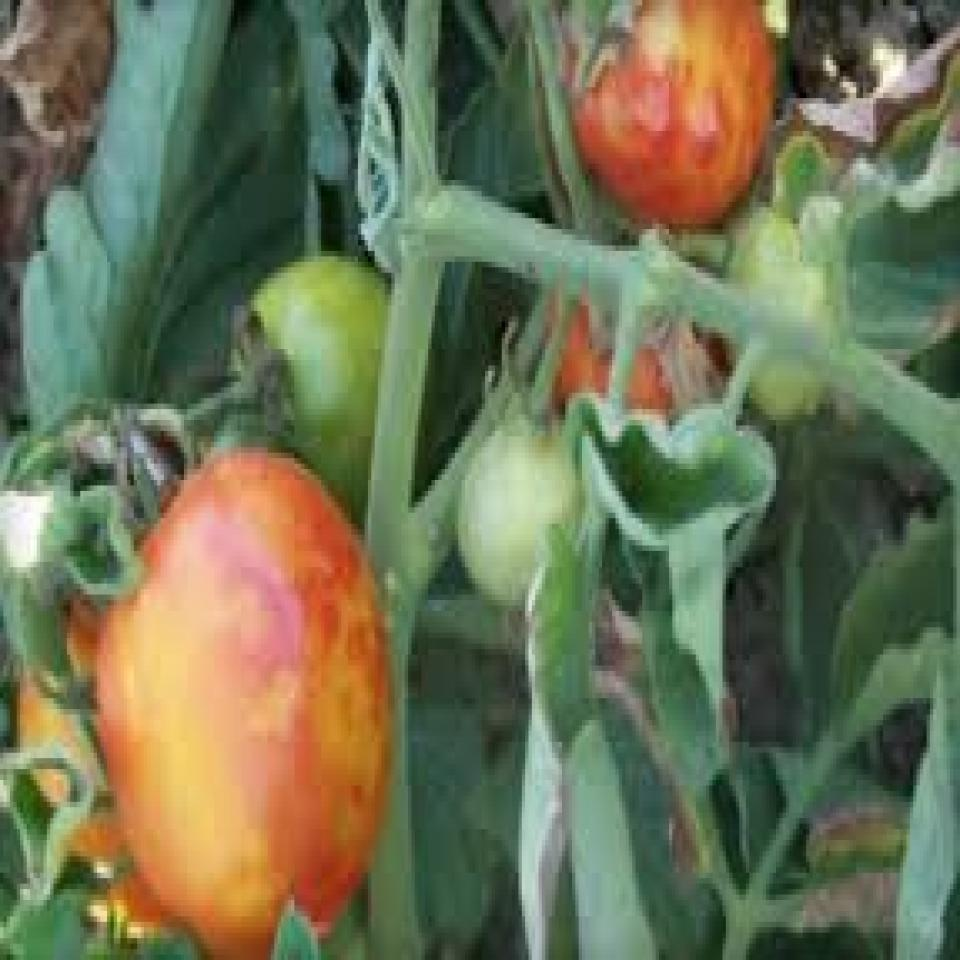Spotted wilt Virus: (91, 449, 396, 960), (559, 0, 780, 240)
